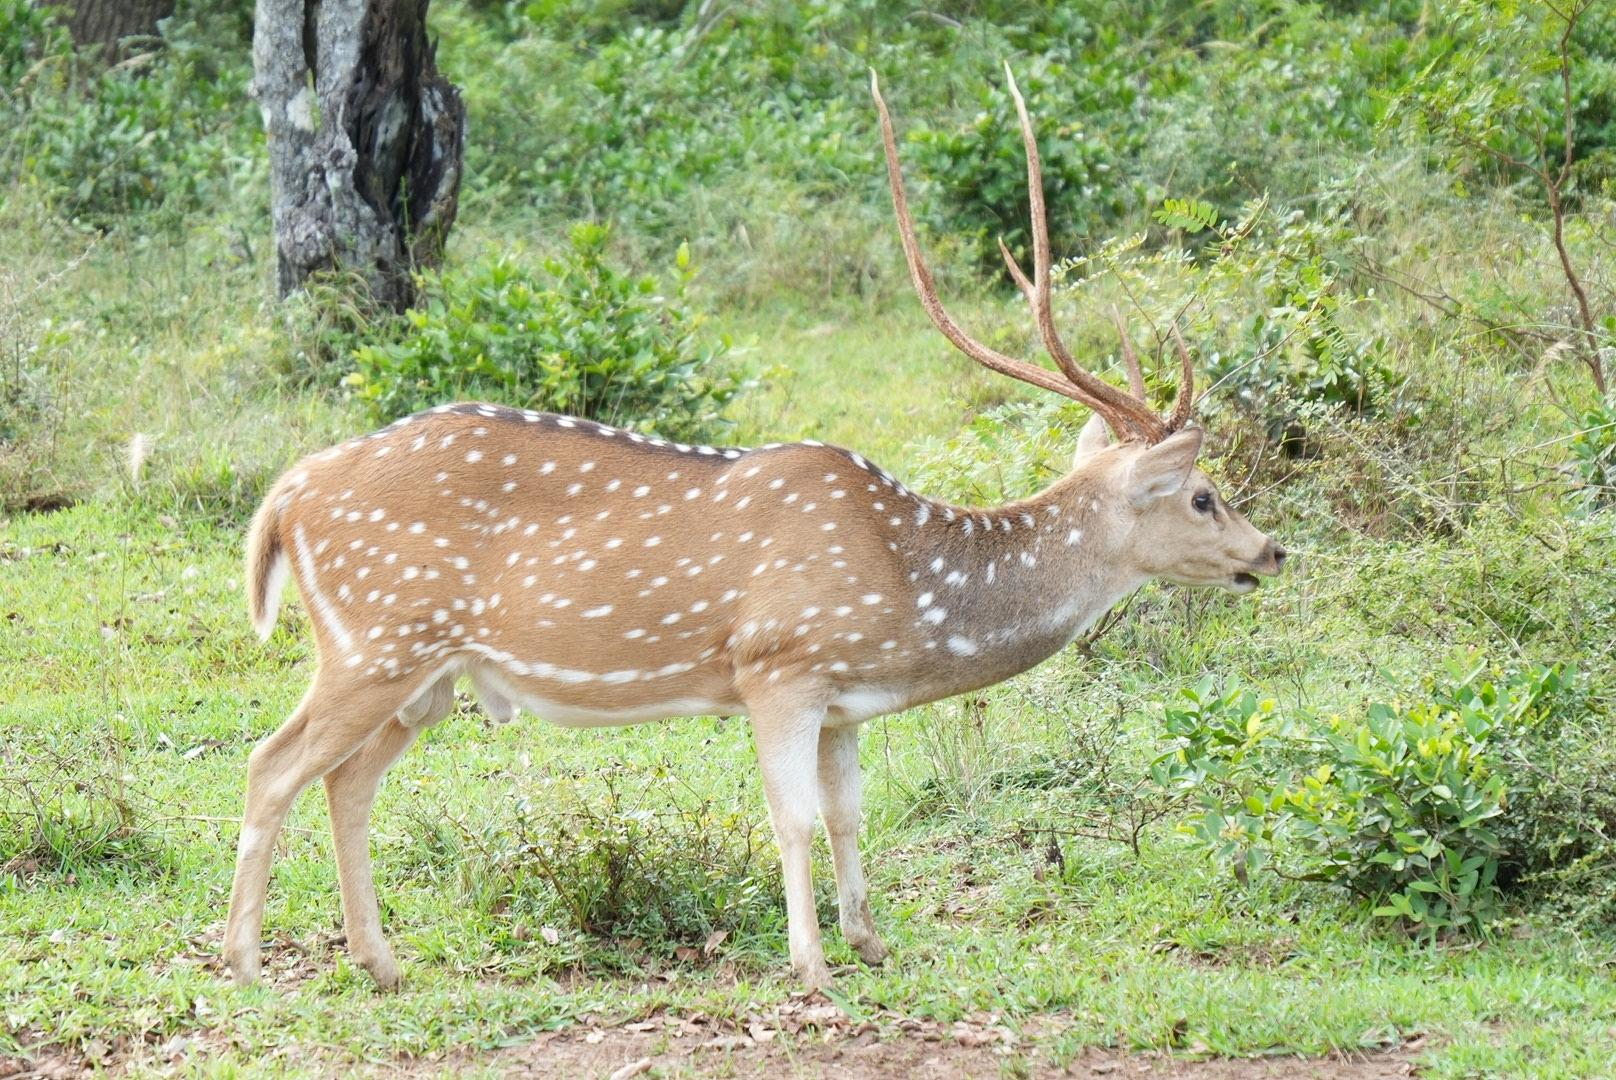Deer: (225, 76, 1283, 990)
